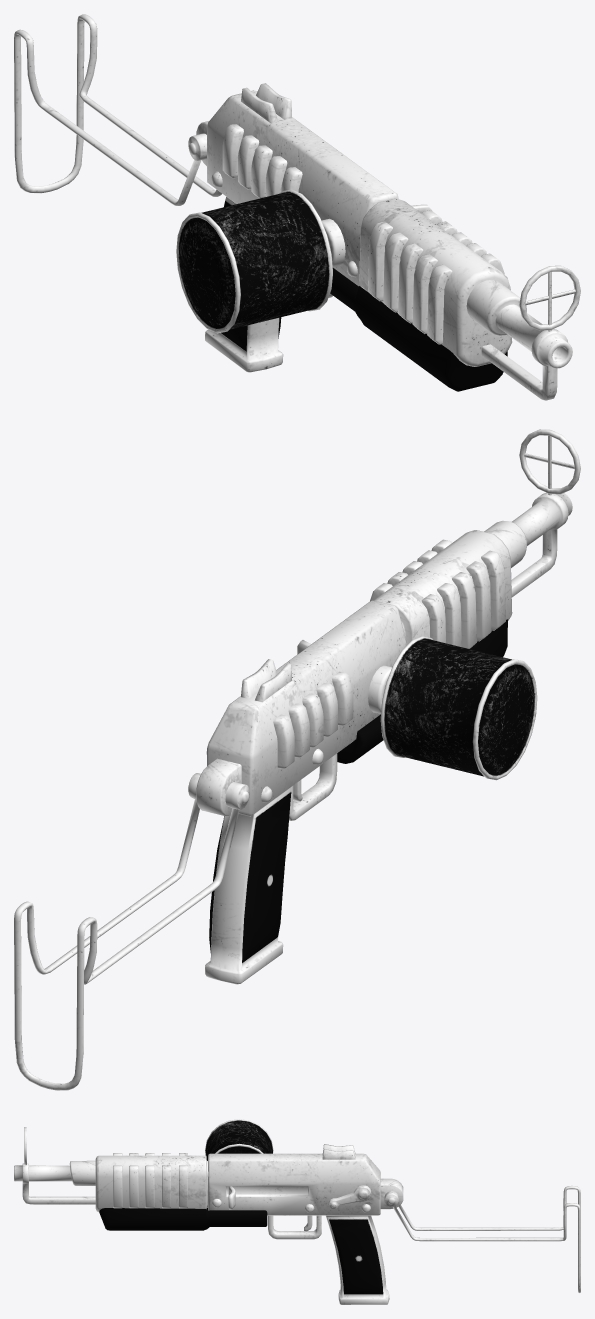
Rendered from Marker1.obj.
3 views of the same model, one above another, from view 1: azimuth 30°, elevation 25°; view 2: azimuth 150°, elevation 25°; view 3: azimuth 270°, elevation 25° (orthographic). The views are drawn at different scales.
Parts seen in each view (by area): view 1: gun1_Cube; view 2: gun1_Cube; view 3: gun1_Cube.
Boxes of the visible parts, left/top/right/bottom form: gun1_Cube: left=14, top=14, right=580, bottom=400; gun1_Cube: left=14, top=429, right=580, bottom=1090; gun1_Cube: left=14, top=1119, right=580, bottom=1304.
Size of the model in its own units: 0.2051 by 0.2763 by 0.8244.
Materials: 1 (1 with a texture image).
